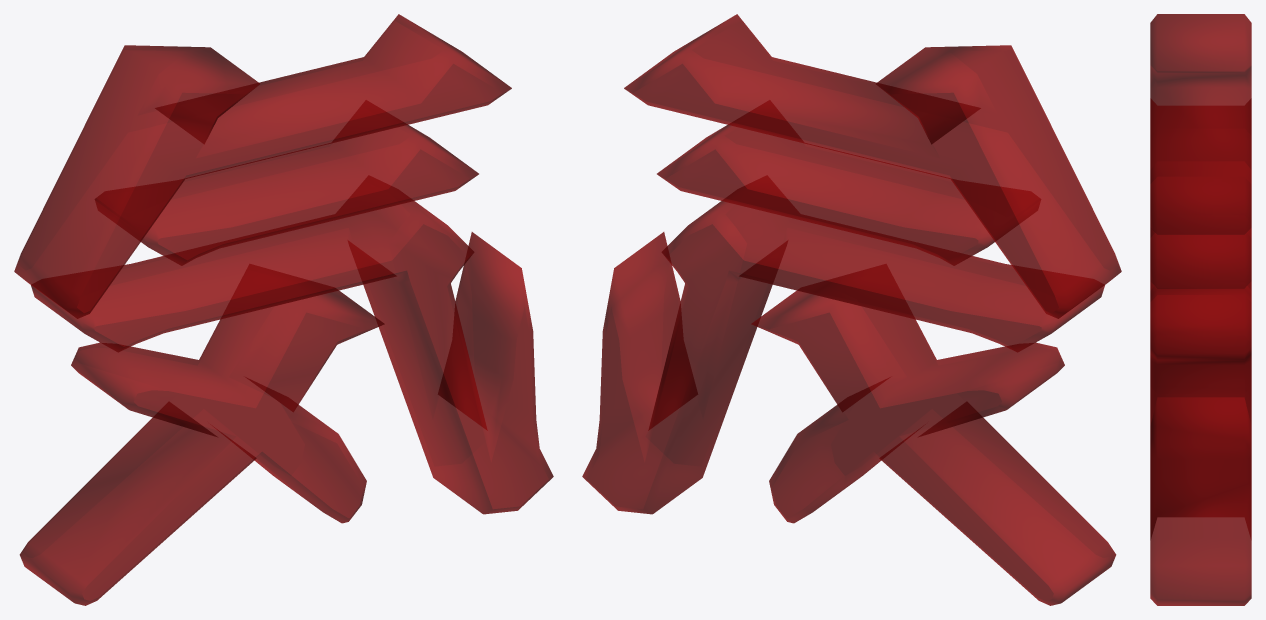
Rendered from quest03.glb.
3 renders of one model, left to right at view 1: azimuth 30°, elevation 25°; view 2: azimuth 150°, elevation 25°; view 3: azimuth 270°, elevation 25°, orthographic. The views are drawn at different scales.
Visible parts, largest first — view 1: Text.003; view 2: Text.003; view 3: Text.003.
Part boxes in pixels (x1,y1,x2,y2): Text.003: (14,14,553,605); Text.003: (582,14,1121,605); Text.003: (1150,14,1251,605).
Bounding box in the file's own units: 0.6785 × 0.6788 × 0.14.
